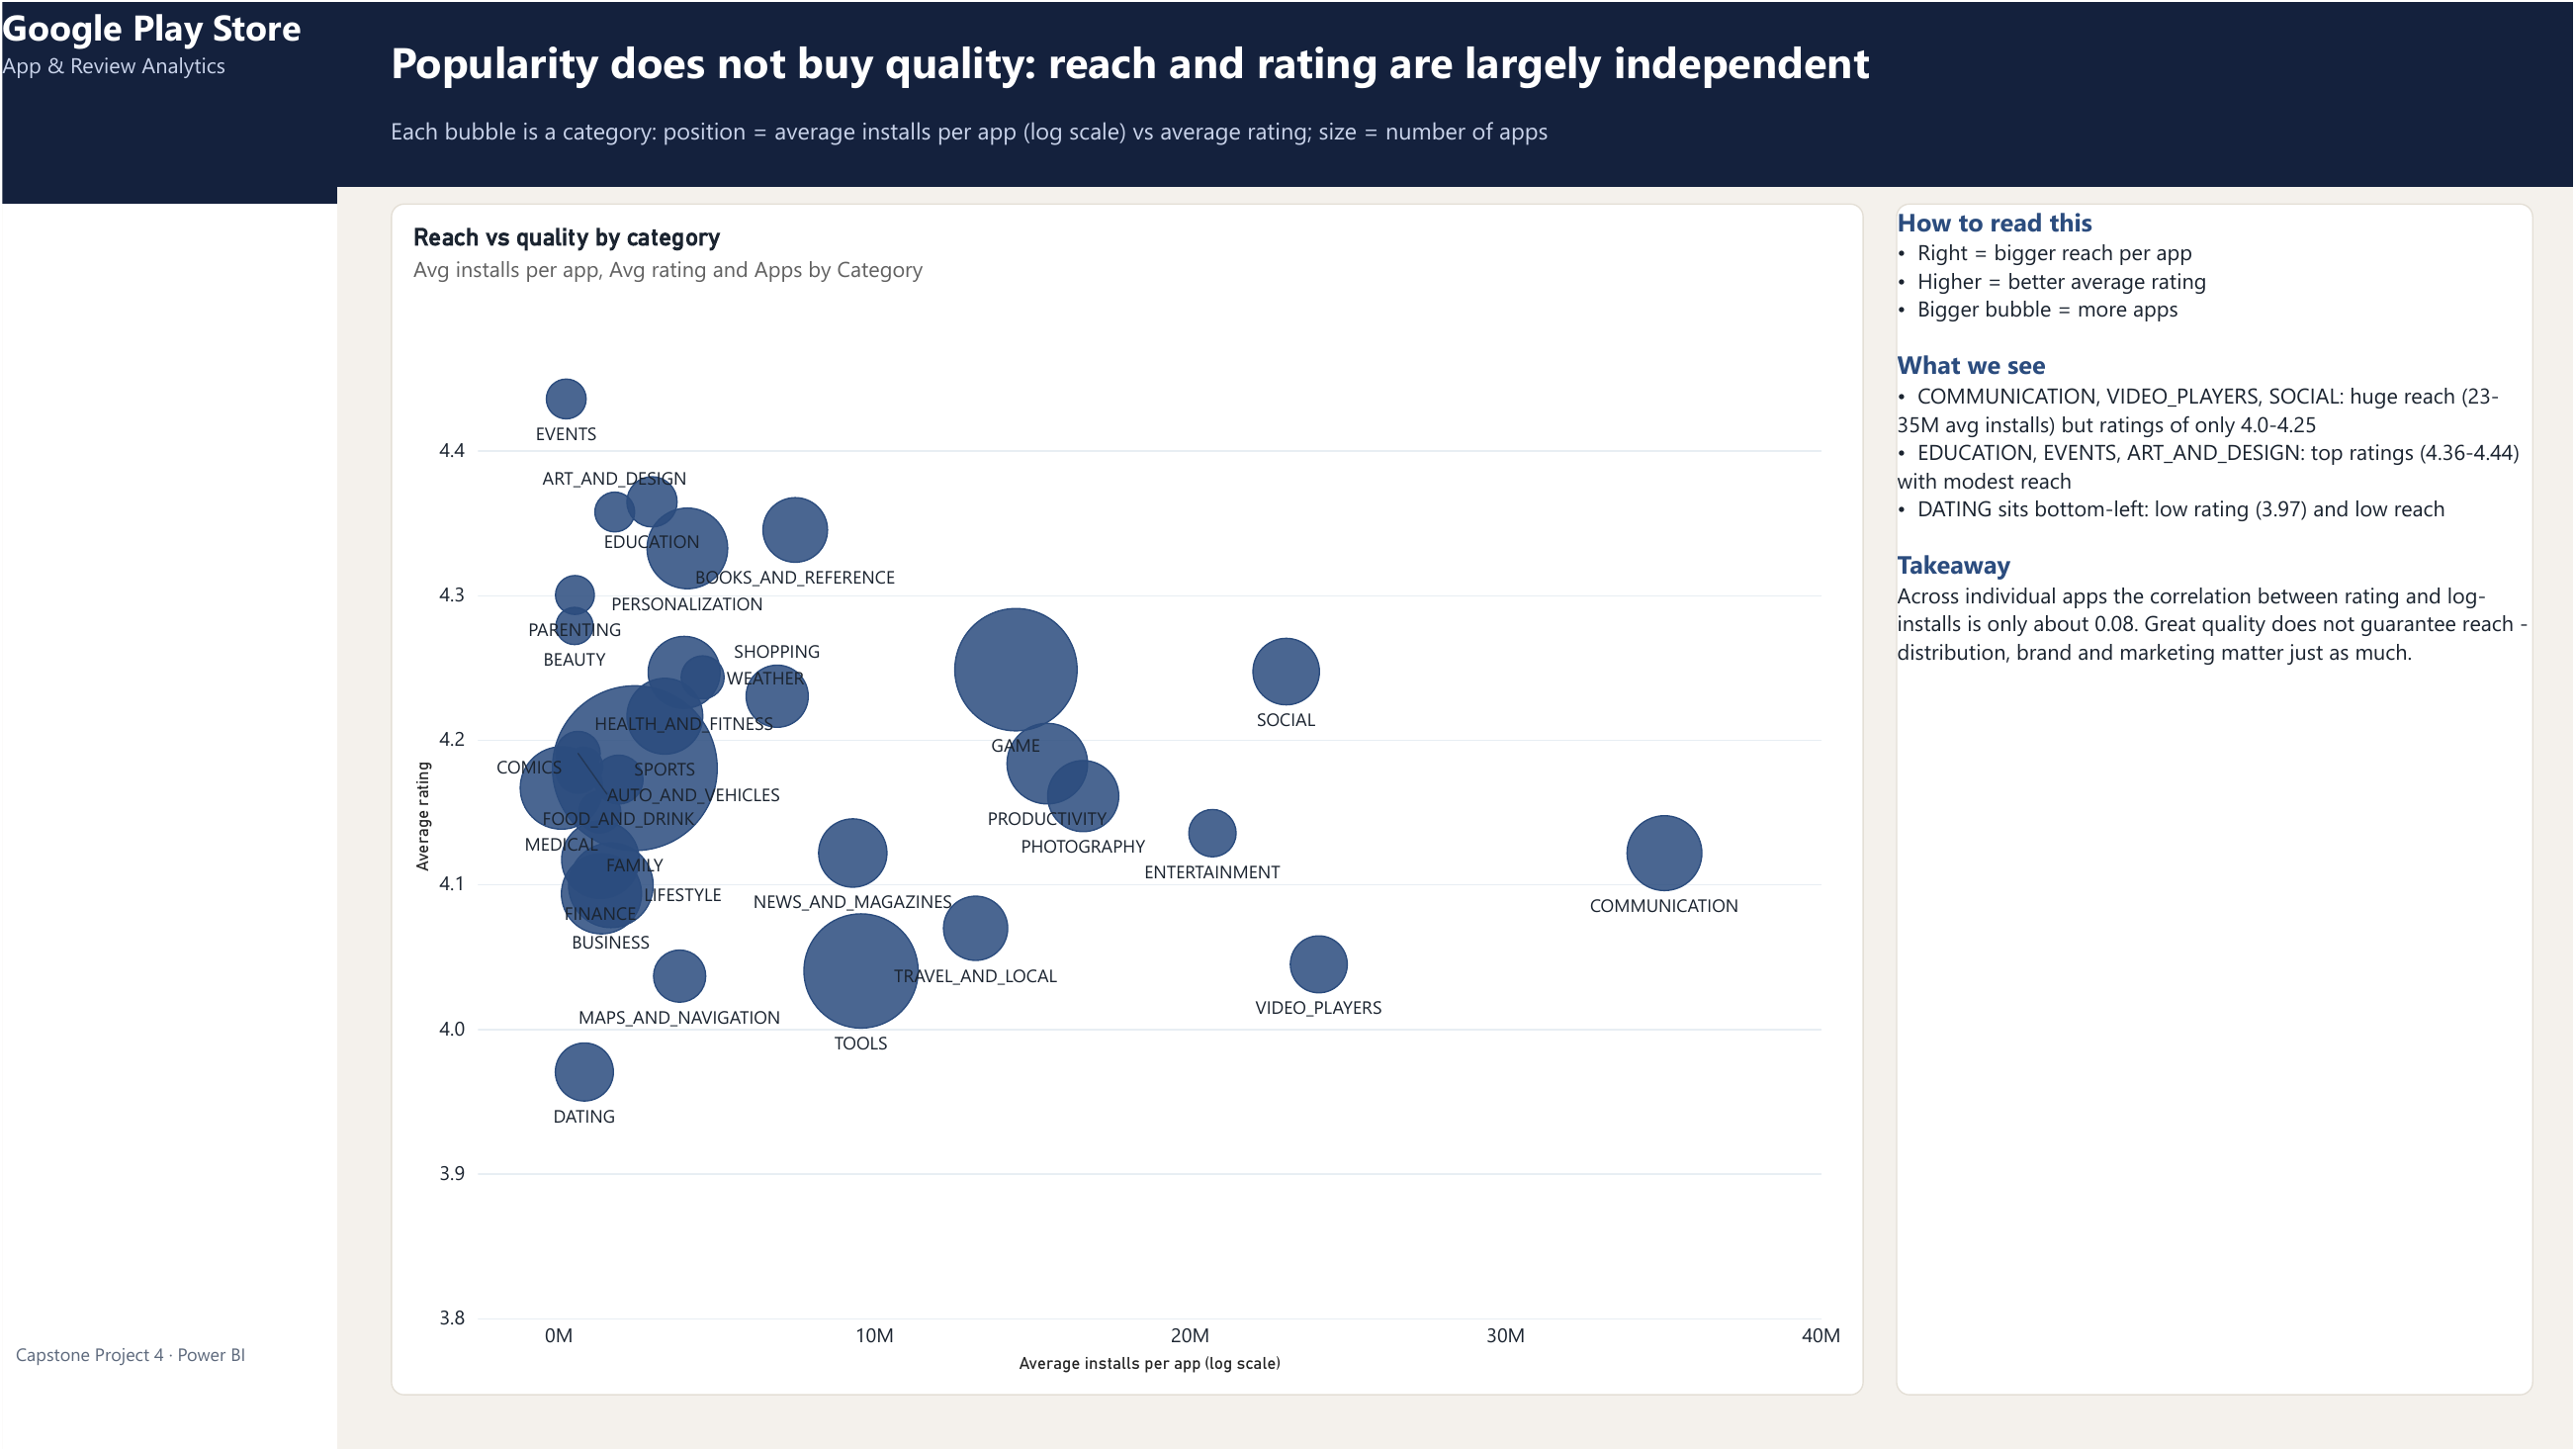

The page's visual inventory and layout, read from the dashboard file:
{"tool":"powerbi","page":{"name":"Quality vs Reach","canvas":[1920,1080],"ordinal":7},"visuals":[{"type":"textbox","box":[0,0,250,1080],"z":0},{"type":"textbox","box":[0,0,250,150],"z":1000},{"type":"pageNavigator","box":[10,170,230,800],"z":2000},{"type":"textbox","box":[10,1000,230,50],"z":3000},{"type":"textbox","box":[250,0,1670,138],"z":4000},{"type":"textbox","box":[290,22,1600,62],"z":5000},{"type":"textbox","box":[290,84,1600,40],"z":6000},{"type":"scatterChart","title":"Reach vs quality by category","fields":{"Category":["Play_Store_Cleaned.Category"],"Size":["CountNonNull(Play_Store_Cleaned.App)"],"X":["Avg(Play_Store_Cleaned.Installs)"],"Y":["Avg(Play_Store_Cleaned.Rating)"]},"box":[290,150,1100,890],"z":7000},{"type":"textbox","box":[1414,150,476,890],"z":8000}]}

Visuals, with their boxes in screenshot pixels (x1, y1, x2, y2), scaled from the page's 1920x1080 canvas onto the 2576x1452 screenshot:
textbox: select_region(0, 0, 335, 1451)
textbox: select_region(0, 0, 335, 202)
pageNavigator: select_region(14, 228, 322, 1304)
textbox: select_region(14, 1344, 322, 1411)
textbox: select_region(335, 0, 2575, 186)
textbox: select_region(389, 30, 2535, 113)
textbox: select_region(389, 113, 2535, 167)
"Reach vs quality by category" scatterChart: select_region(389, 202, 1865, 1399)
textbox: select_region(1897, 202, 2535, 1399)
